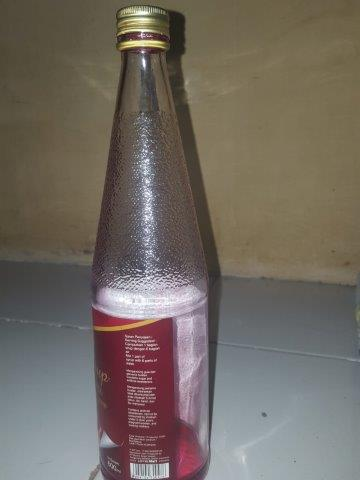botolkaca: (92, 6, 214, 480)
